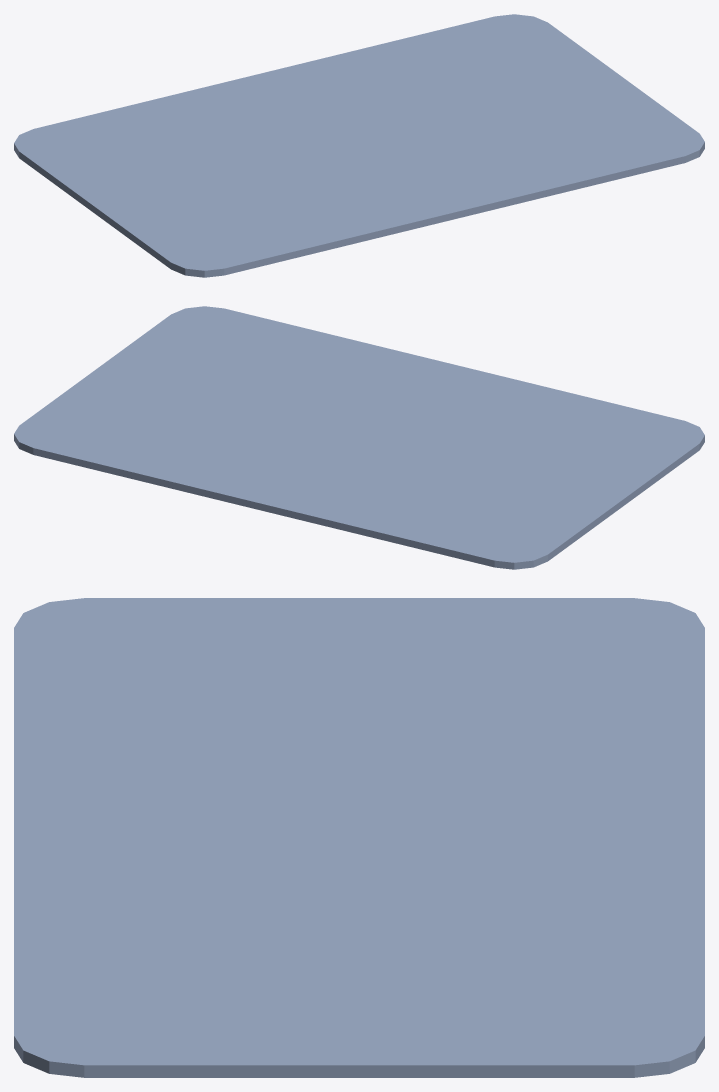
Rendered from Carpet_03.fbx.
3 renders of one model, top to bottom at view 1: azimuth 30°, elevation 25°; view 2: azimuth 150°, elevation 25°; view 3: azimuth 270°, elevation 25°, orthographic. The views are drawn at different scales.
Visible parts, largest first — view 1: Carpet_03; view 2: Carpet_03; view 3: Carpet_03.
Part boxes in pixels (box(x1,y1,x2,y2)): Carpet_03: box(14, 14, 704, 277); Carpet_03: box(14, 306, 704, 569); Carpet_03: box(14, 598, 704, 1077).
Size of the model in its own units: 80 by 1 by 50.
